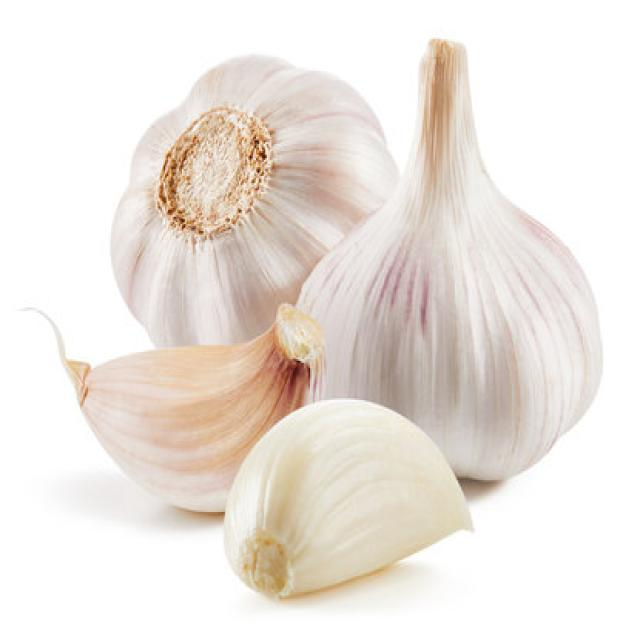Garlic: (293, 36, 603, 482), (108, 50, 399, 348), (18, 300, 324, 514), (222, 395, 474, 599)
